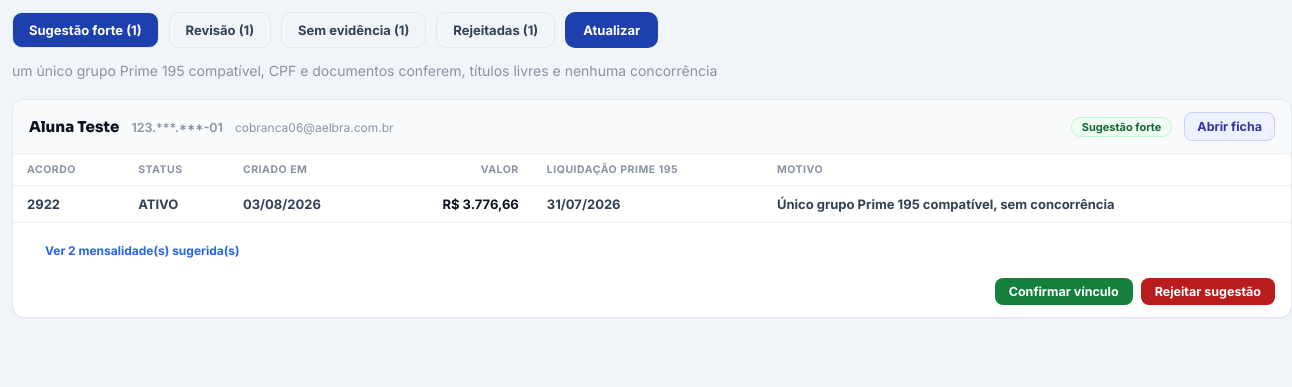
it: SugestoesVinculoAcordo › servidor recusa (evidencia mudou): mostra a mensagem, nao diz que vinculou e recarrega
Check: the element with test id "sugestao-card" is shown, box [12,99,1291,318]
Click the button "Confirmar vínculo" at (1064, 292), box [995,278,1133,305]
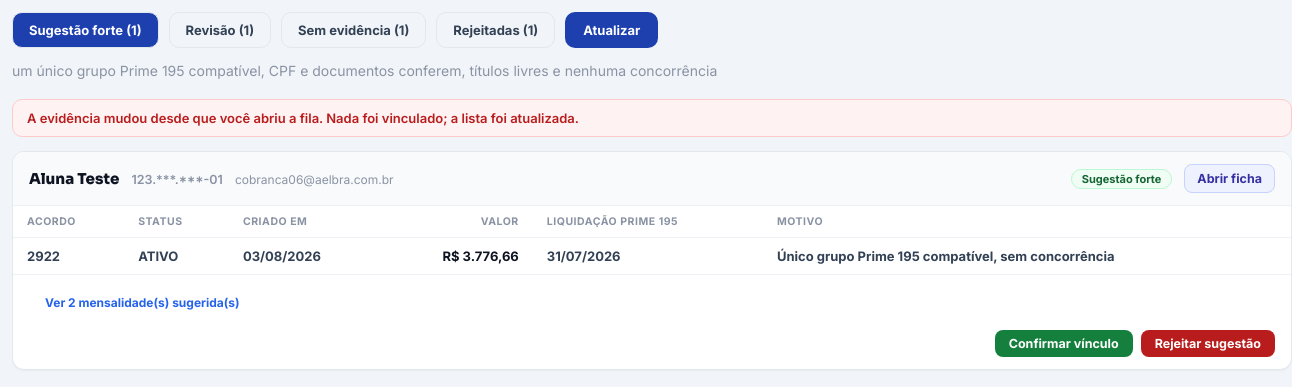
Check: the text "A evidência mudou" is shown, box [27,110,579,126]
